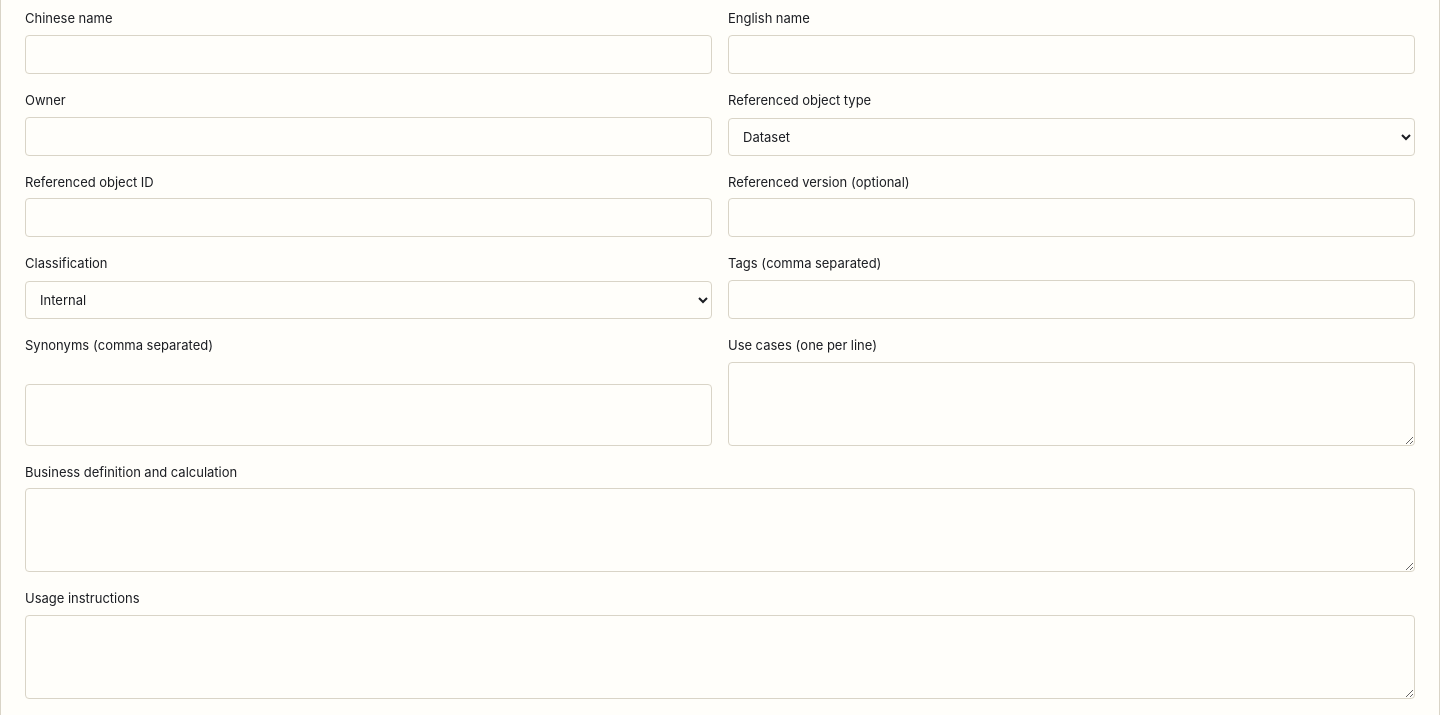
prepares a typed asset draft and executes only after approving its frozen plan
Type "Sales" into the field labelled "Chinese name" at [368, 55], box top-left (25, 35), bottom-right (712, 74)
Type "Analytics" into the field labelled "Owner" at [368, 136], box top-left (25, 117), bottom-right (712, 156)
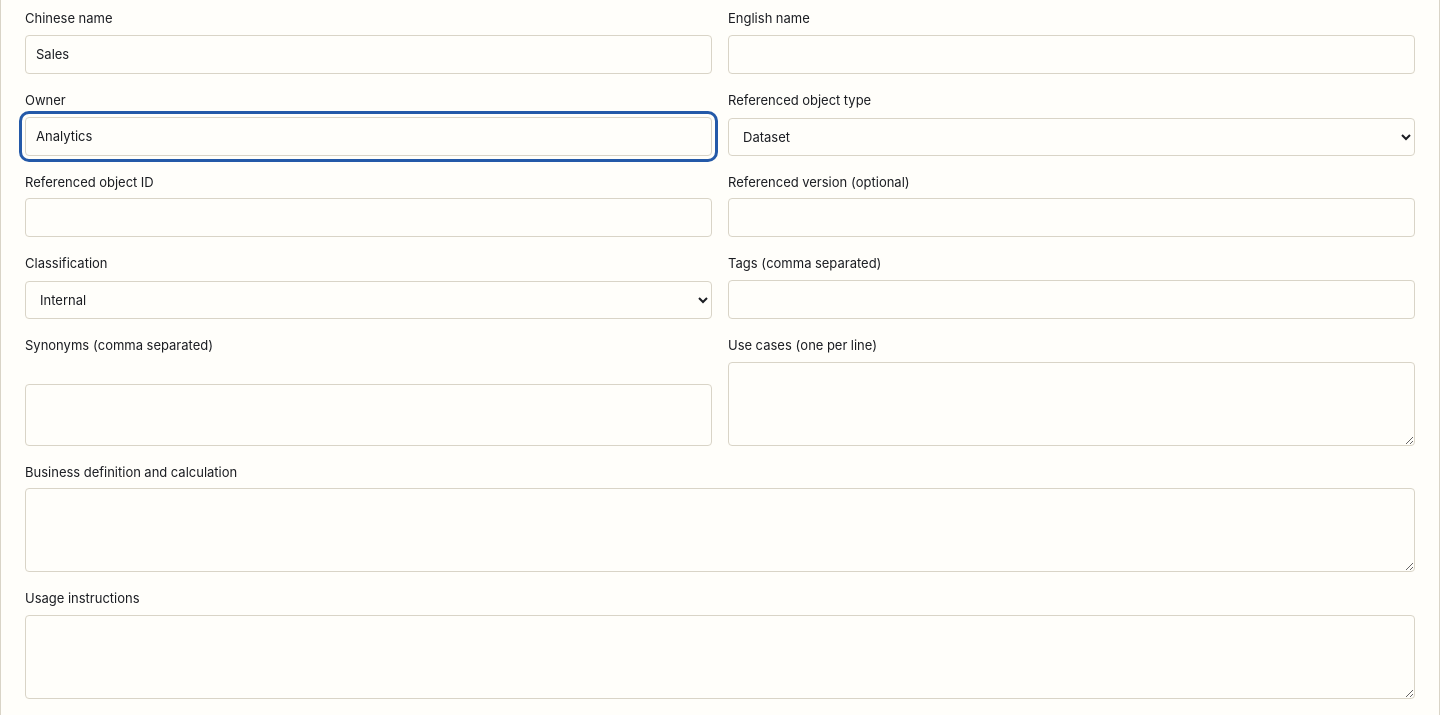
Type "sample-dataset" into the field labelled "Referenced object ID" at [368, 218], box top-left (25, 198), bottom-right (712, 237)
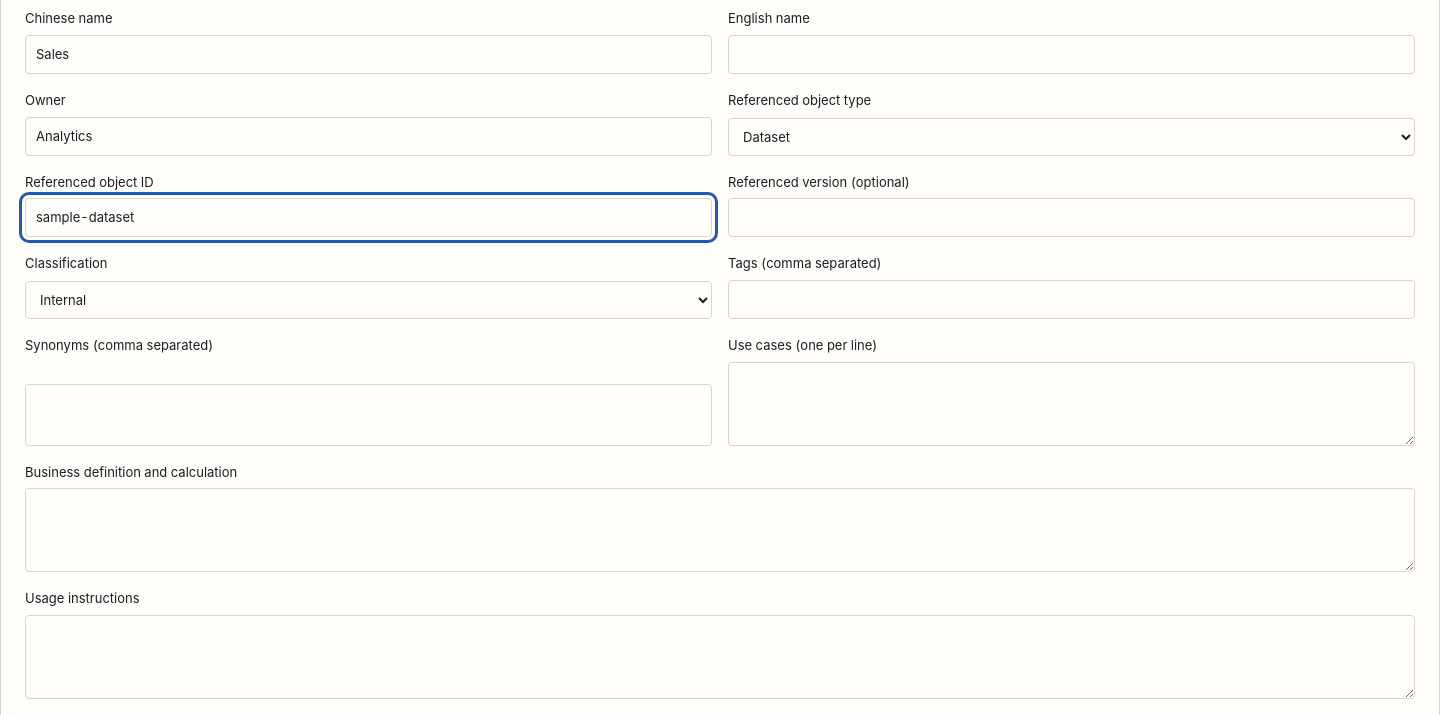
Type " sales, finance " into the field labelled "Tags (comma separated)" at [1072, 299], box top-left (728, 280), bottom-right (1415, 319)
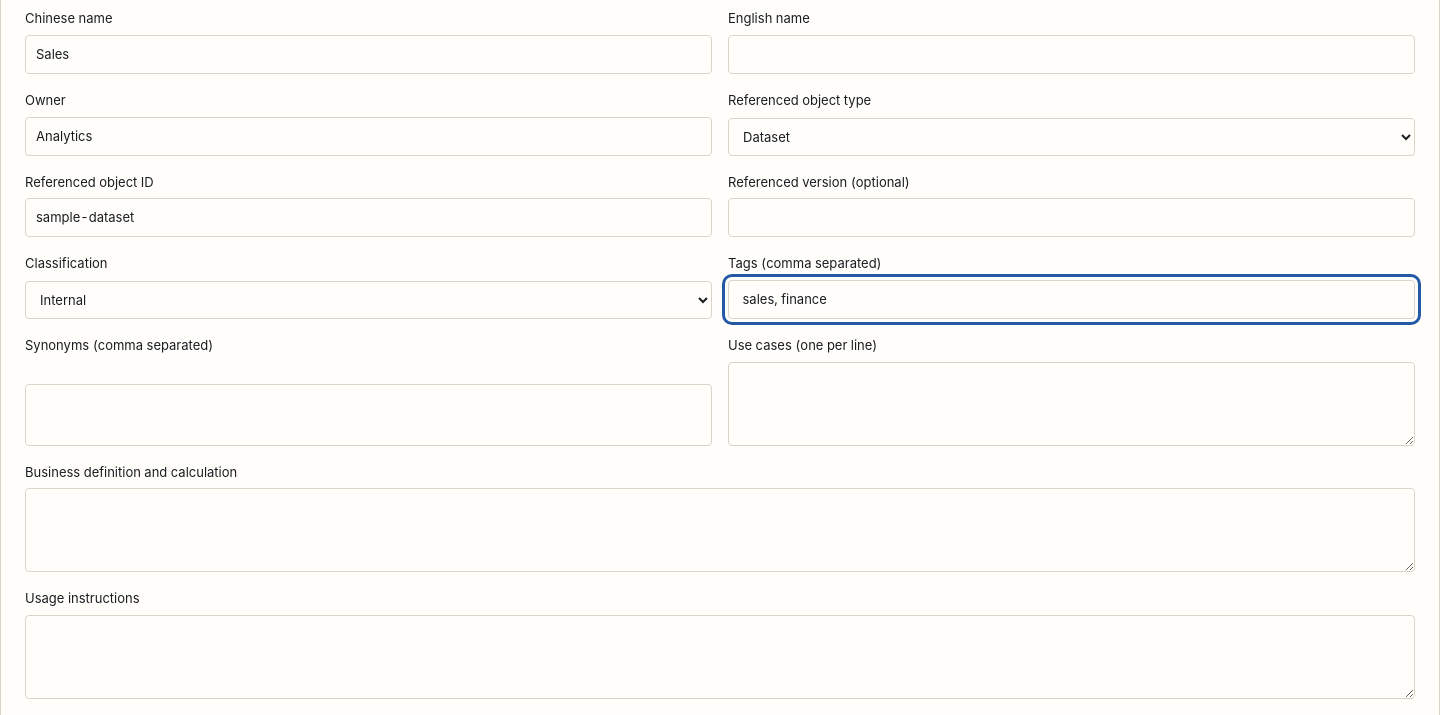
Type "receipts" into the field labelled "Synonyms (comma separated)" at [368, 415], box top-left (25, 384), bottom-right (712, 446)
(page scrolled)
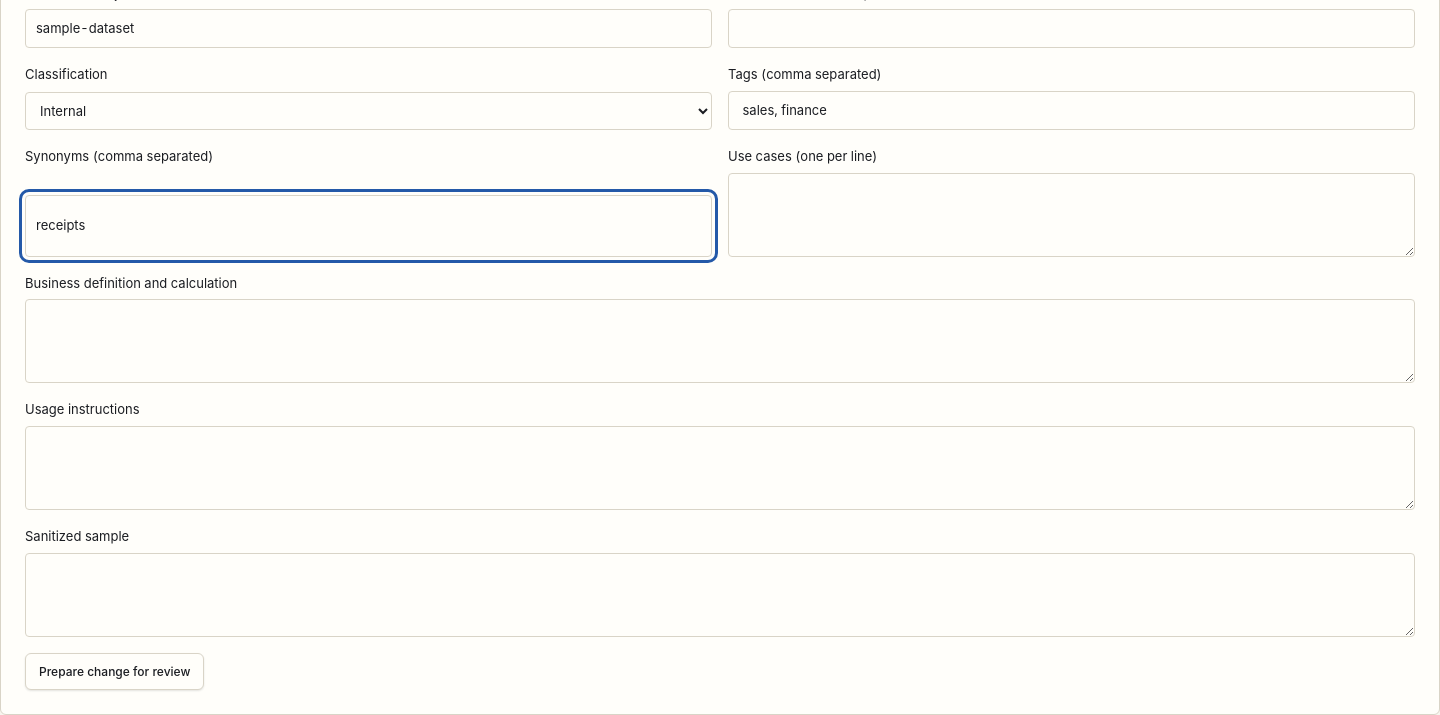
Click the button "Prepare change for review" at [115, 672], box top-left (25, 653), bottom-right (204, 690)
(page scrolled)
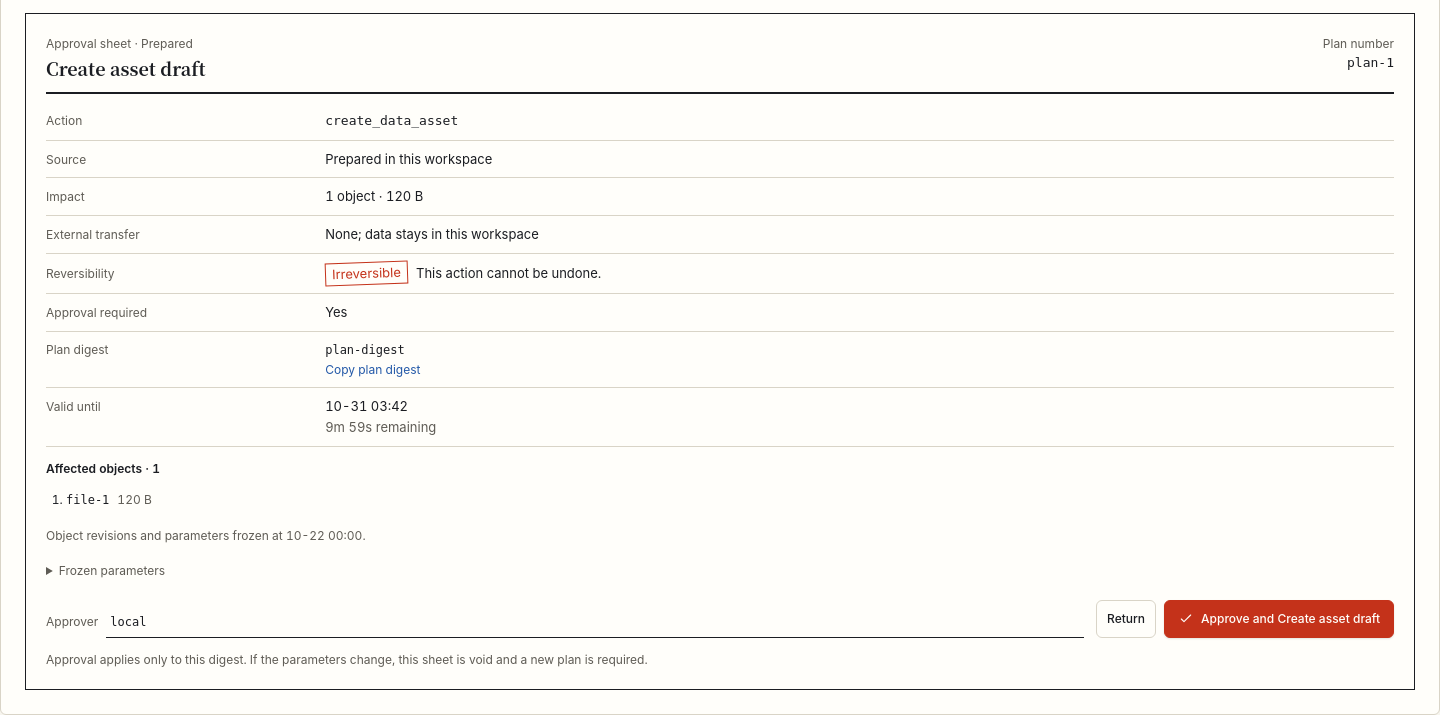
Click the button "Approve and Create asset draft" at [1279, 619], box top-left (1164, 600), bottom-right (1394, 638)
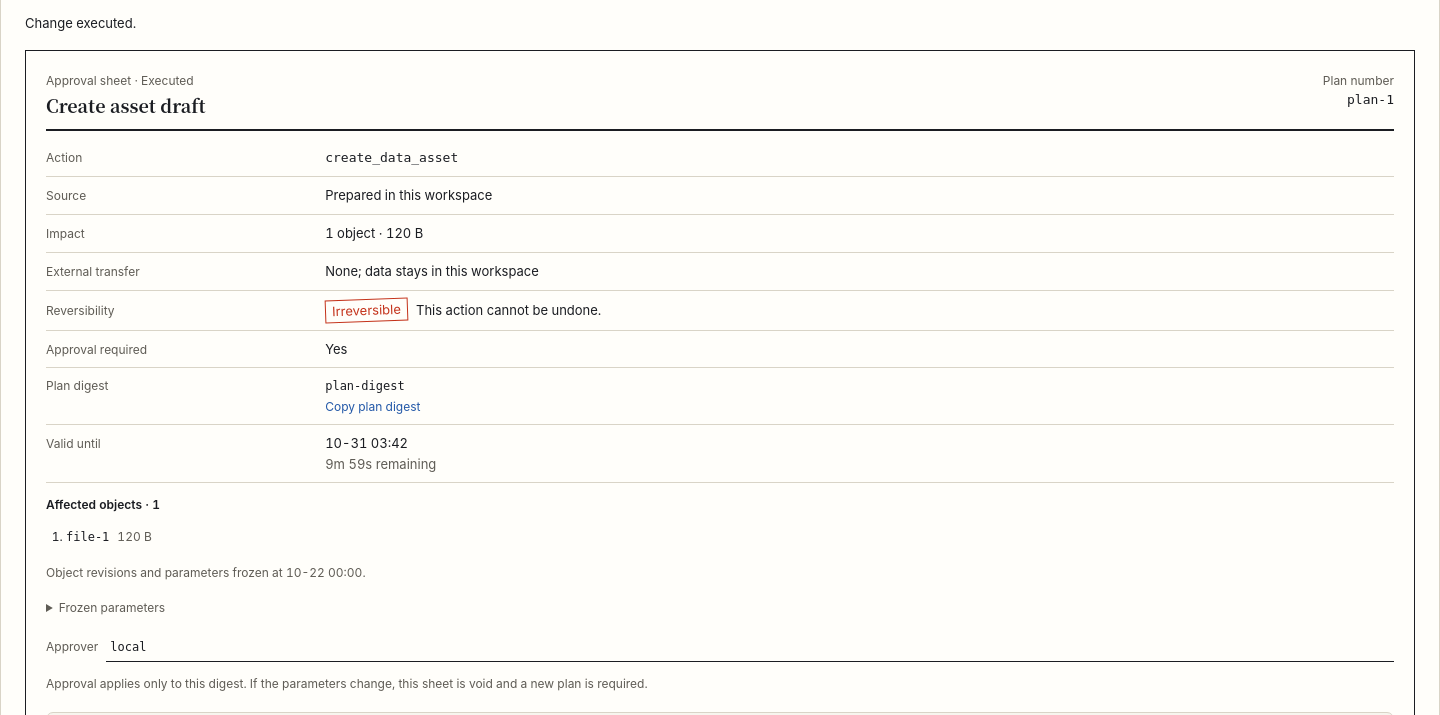
Expected: the text "Change executed." is shown, top-left (25, 15), bottom-right (136, 31)
